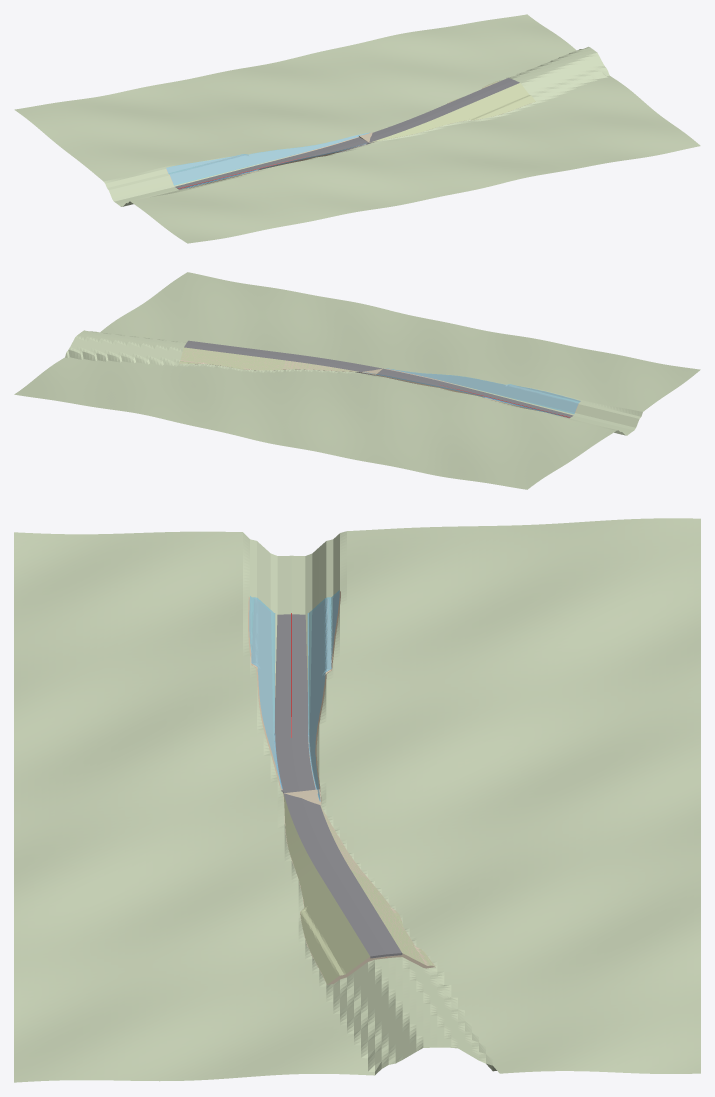
3 views of the same model, one above another, from view 1: azimuth 30°, elevation 25°; view 2: azimuth 150°, elevation 25°; view 3: azimuth 270°, elevation 25° (orthographic). The views are drawn at different scales.
Visible parts, largest first — view 1: 地形|現況地形 (参考・土工後の地表面), 舗装|舗装 (一体) t=65cm, 記号|法面保護工 範囲記号 (吹付法枠工, 左側 切土), 法面|盛土法面 1:1.5 (小段 1.5m@5m) [右側 No.124-240], 法面|切土法面 1:1.0 (小段 1.5m@5m) [左側 No.0-132]; view 2: 地形|現況地形 (参考・土工後の地表面), 舗装|舗装 (一体) t=65cm, 記号|法面保護工 範囲記号 (吹付法枠工, 右側 切土), 法面|盛土法面 1:1.5 (小段 1.5m@5m) [左側 No.134-240], 法面|切土法面 1:1.0 (小段 1.5m@5m) [右側 No.0-122], 土工|盛土本体 (路体・路床); view 3: 地形|現況地形 (参考・土工後の地表面), 舗装|舗装 (一体) t=65cm, 法面|盛土法面 1:1.5 (小段 1.5m@5m) [右側 No.124-240], 記号|法面保護工 範囲記号 (吹付法枠工, 左側 切土), 法面|切土法面 1:1.0 (小段 1.5m@5m) [左側 No.0-132], 記号|法面保護工 範囲記号 (吹付法枠工, 右側 切土), 法面|切土法面 1:1.0 (小段 1.5m@5m) [右側 No.0-122], 土工|盛土本体 (路体・路床), 法面|盛土法面 1:1.5 (小段 1.5m@5m) [左側 No.134-240].
Boxes of the visible parts, x1=… form: 地形|現況地形 (参考・土工後の地表面): x1=14, y1=14, x2=700, y2=243; 舗装|舗装 (一体) t=65cm: x1=175, y1=78, x2=519, y2=189; 記号|法面保護工 範囲記号 (吹付法枠工, 左側 切土): x1=166, y1=132, x2=369, y2=185; 法面|盛土法面 1:1.5 (小段 1.5m@5m) [右側 No.124-240]: x1=370, y1=83, x2=535, y2=142; 法面|切土法面 1:1.0 (小段 1.5m@5m) [左側 No.0-132]: x1=166, y1=135, x2=358, y2=184; 地形|現況地形 (参考・土工後の地表面): x1=14, y1=272, x2=700, y2=489; 舗装|舗装 (一体) t=65cm: x1=184, y1=340, x2=573, y2=418; 記号|法面保護工 範囲記号 (吹付法枠工, 右側 切土): x1=386, y1=368, x2=580, y2=413; 法面|盛土法面 1:1.5 (小段 1.5m@5m) [左側 No.134-240]: x1=179, y1=347, x2=358, y2=371; 法面|切土法面 1:1.0 (小段 1.5m@5m) [右側 No.0-122]: x1=386, y1=369, x2=580, y2=412; 土工|盛土本体 (路体・路床): x1=179, y1=349, x2=382, y2=374; 地形|現況地形 (参考・土工後の地表面): x1=14, y1=518, x2=700, y2=1082; 舗装|舗装 (一体) t=65cm: x1=275, y1=614, x2=402, y2=958; 法面|盛土法面 1:1.5 (小段 1.5m@5m) [右側 No.124-240]: x1=283, y1=794, x2=369, y2=984; 記号|法面保護工 範囲記号 (吹付法枠工, 左側 切土): x1=307, y1=590, x2=339, y2=801; 法面|切土法面 1:1.0 (小段 1.5m@5m) [左側 No.0-132]: x1=308, y1=591, x2=340, y2=801; 記号|法面保護工 範囲記号 (吹付法枠工, 右側 切土): x1=249, y1=596, x2=282, y2=788; 法面|切土法面 1:1.0 (小段 1.5m@5m) [右側 No.0-122]: x1=248, y1=597, x2=282, y2=789; 土工|盛土本体 (路体・路床): x1=283, y1=789, x2=435, y2=984; 法面|盛土法面 1:1.5 (小段 1.5m@5m) [左側 No.134-240]: x1=321, y1=807, x2=435, y2=966.
Size of the model in its own units: 338 by 21.85 by 198.
